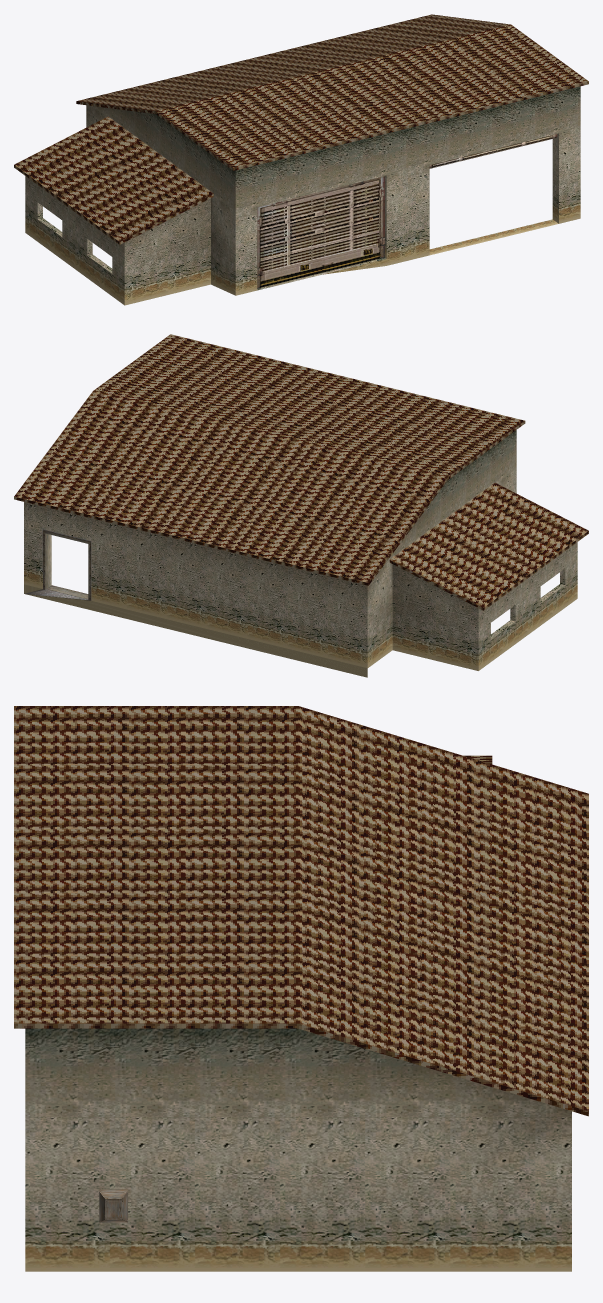
The model's file is Mission8_GarageExt.glb.
The picture shows the model from 3 angles, top to bottom: view 1: azimuth 30°, elevation 25°; view 2: azimuth 150°, elevation 25°; view 3: azimuth 270°, elevation 25°; orthographic projection. The views are drawn at different scales.
Parts seen in each view (by area): view 1: MISSION8_GARAGEEXT; view 2: MISSION8_GARAGEEXT; view 3: MISSION8_GARAGEEXT.
Boxes of the visible parts, bbox=[...] form: MISSION8_GARAGEEXT: bbox=[14, 14, 588, 305]; MISSION8_GARAGEEXT: bbox=[14, 334, 588, 677]; MISSION8_GARAGEEXT: bbox=[14, 706, 588, 1271].
Bounding box in the file's own units: 20.62 × 6.54 × 12.62.
7 materials, 7 textured.
